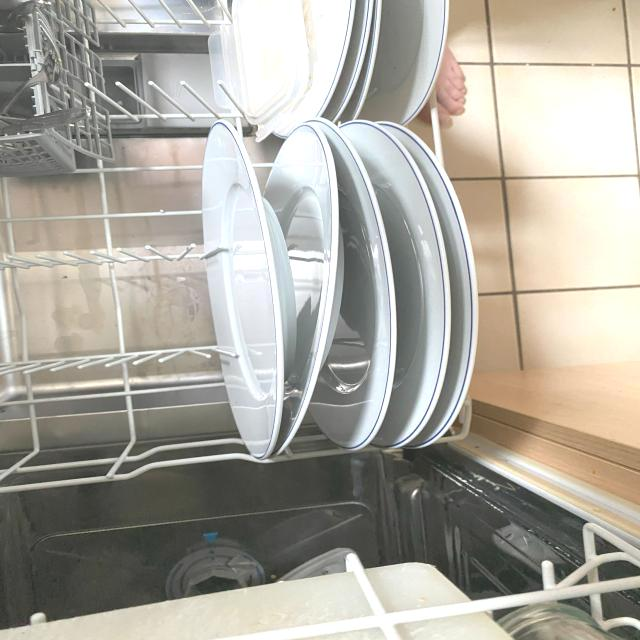empty_slot: (10, 157, 215, 471)
